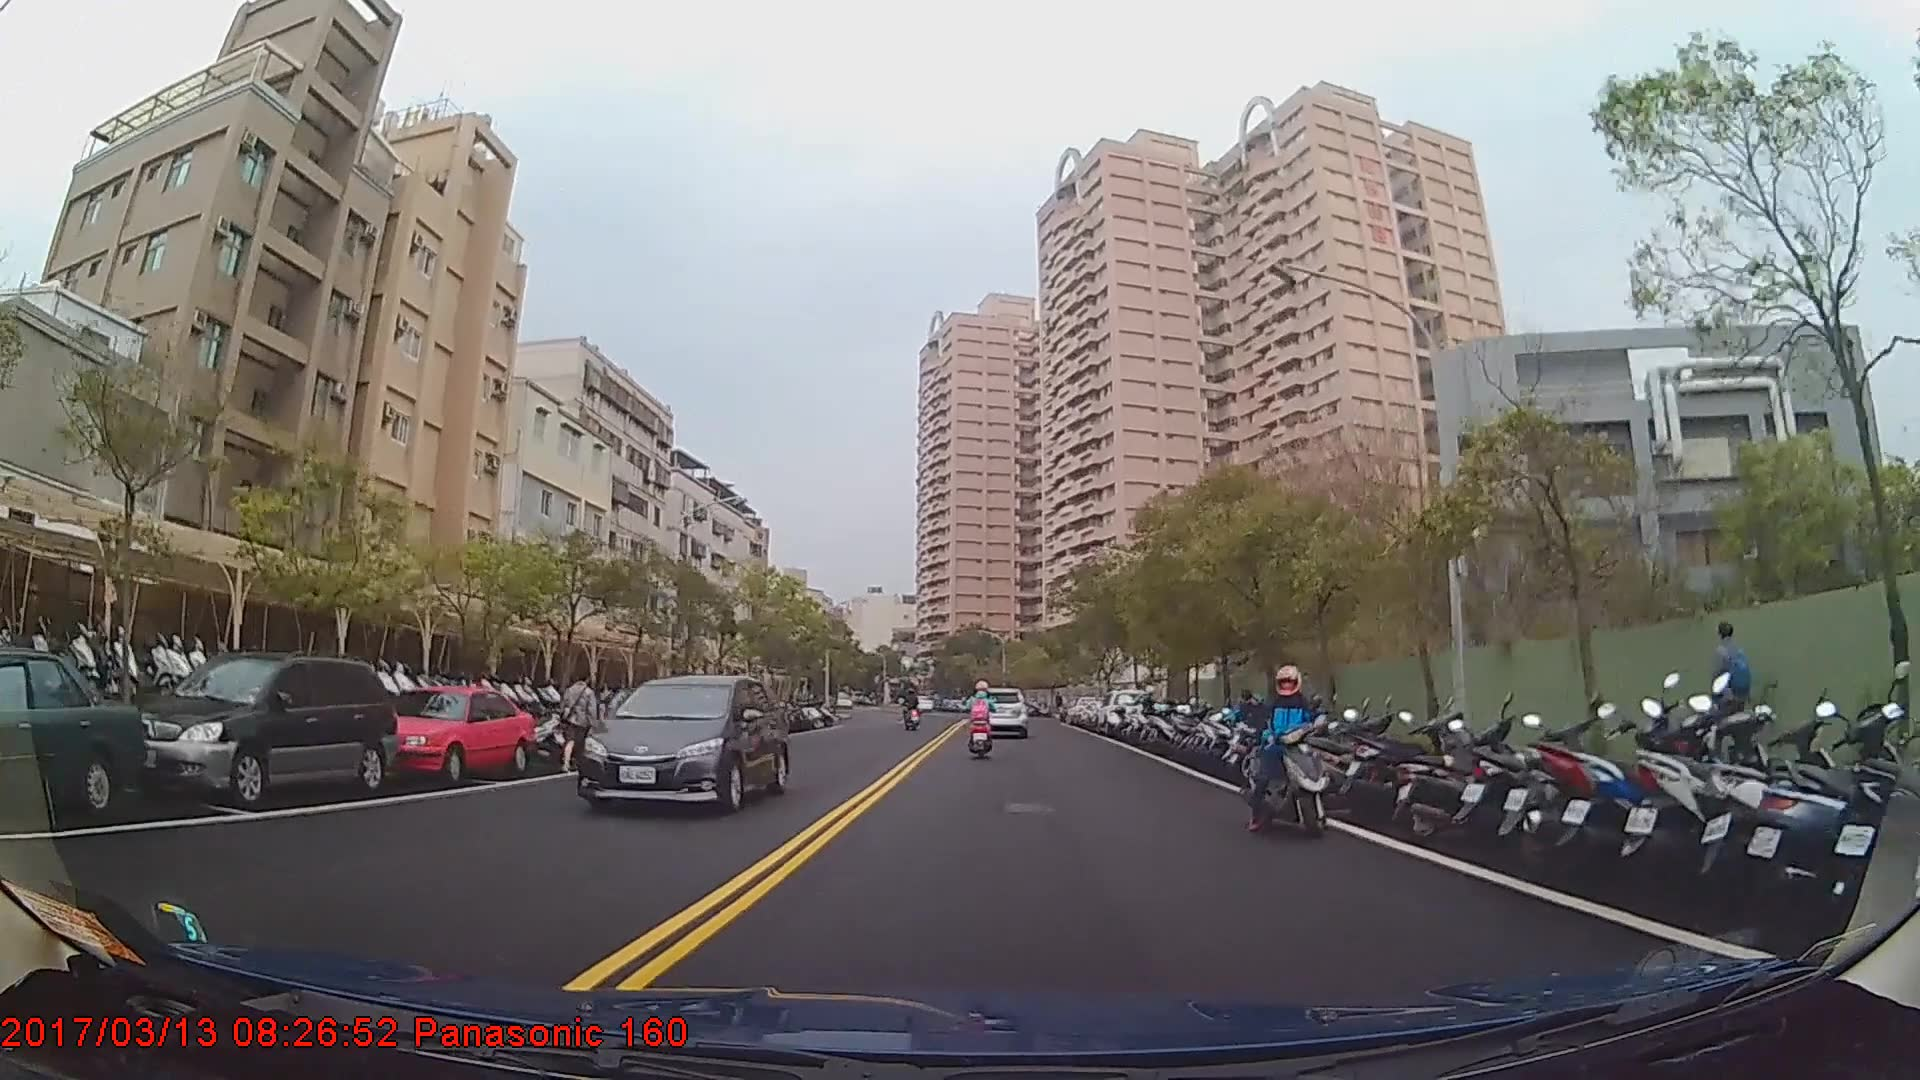pedestrian: (1696, 619, 1761, 801), (556, 671, 603, 784)
rider: (1246, 662, 1334, 838), (963, 681, 996, 754), (902, 685, 922, 725)
vehicle: (122, 645, 396, 801), (576, 667, 787, 812), (1, 646, 146, 819), (379, 684, 533, 782), (1091, 686, 1156, 735), (973, 684, 1027, 735)
